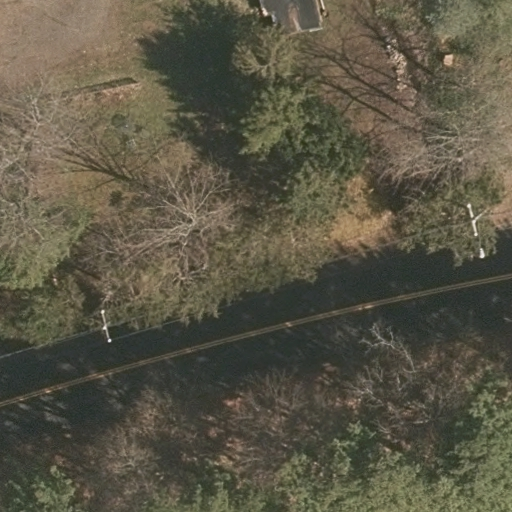DT: (454, 194, 492, 259), (89, 304, 119, 352)
